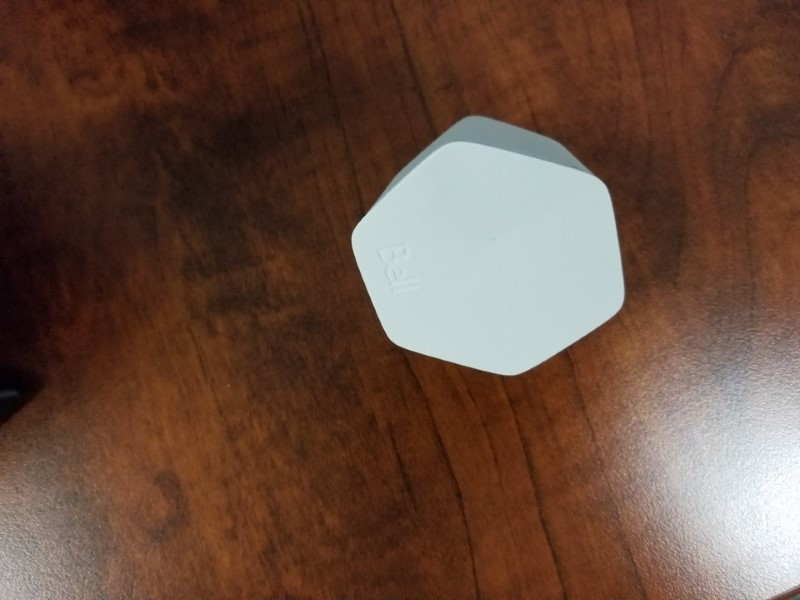pod: (348, 111, 633, 380)
